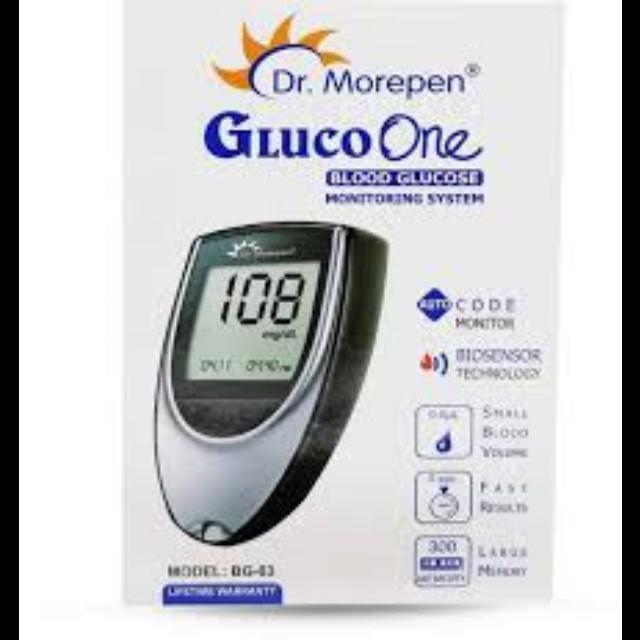Glucose-Meter: (155, 224, 385, 544)
